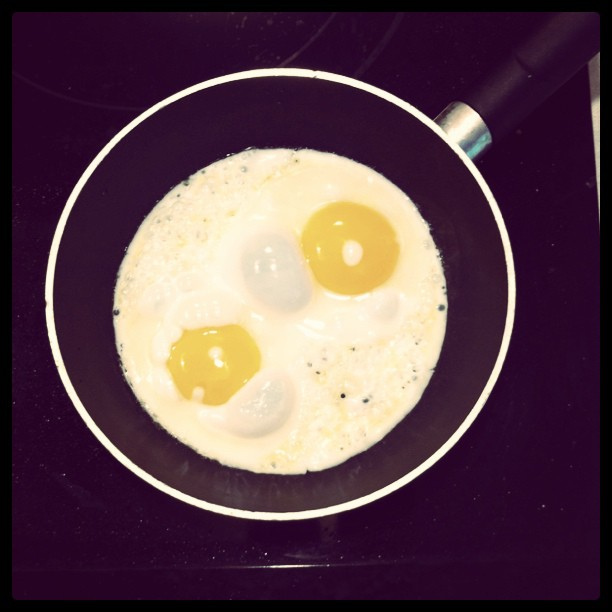fried egg: (124, 274, 378, 446), (252, 158, 431, 347)
